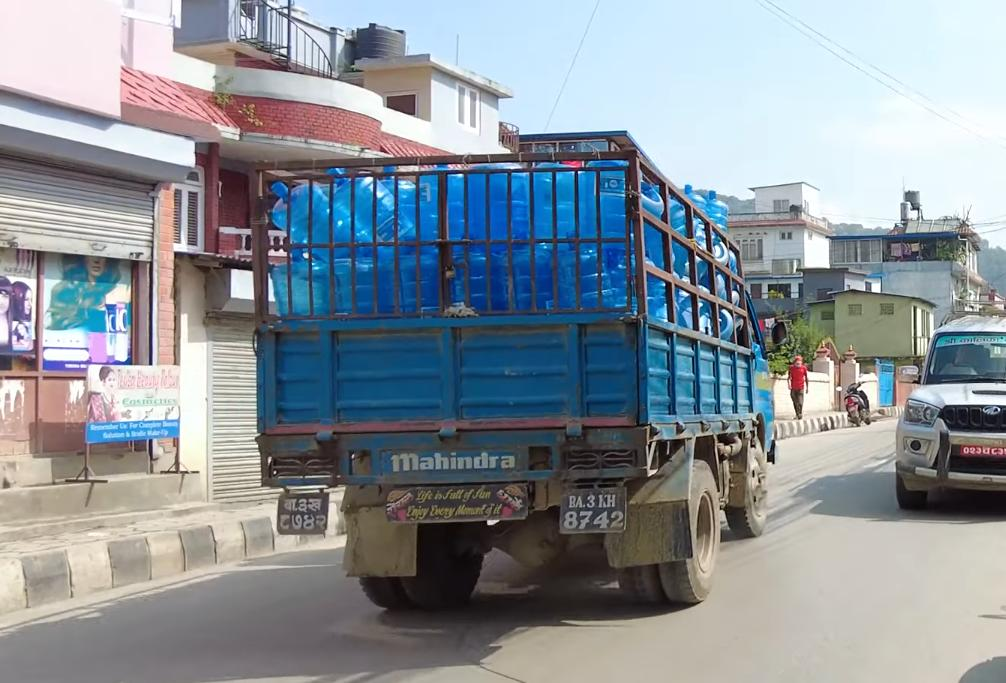SUV: (880, 296, 1006, 528)
mini_truck: (240, 145, 794, 611)
scooter: (836, 372, 870, 434)
